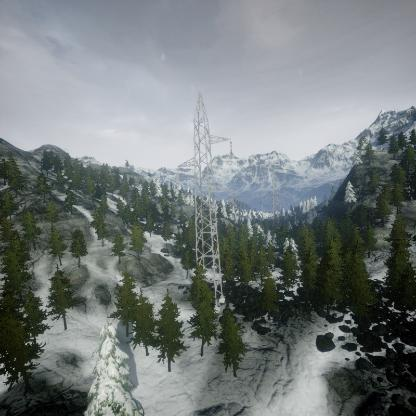tower: (175, 87, 237, 311)
